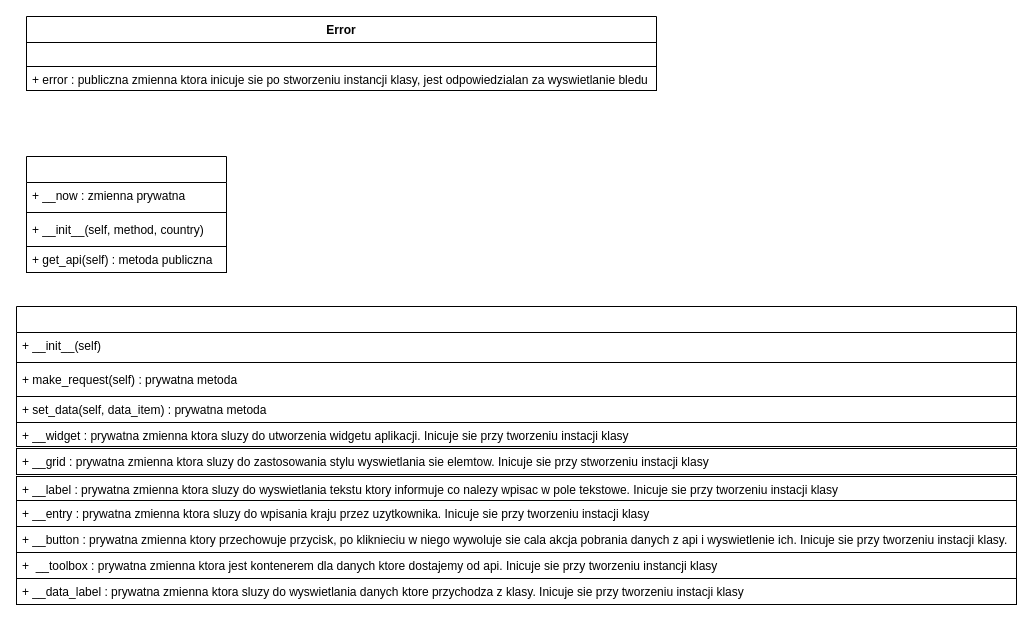
This 1033x621 diagram has some shape labels left out. The box of each missing label's shape, as (x1, y1, x2, y2) in pixels:
+ __init__(self, error_text): (26, 42, 656, 66)
Request: (26, 156, 226, 272)
Window: (16, 306, 1016, 446)
